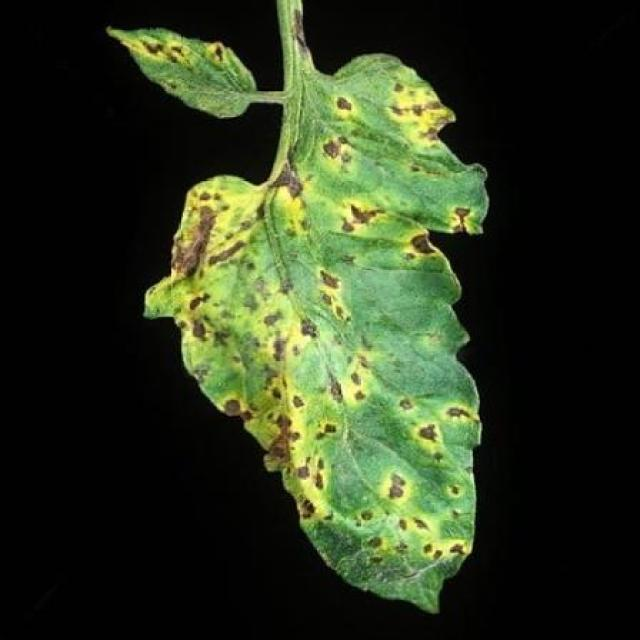Septoria: (138, 52, 489, 615), (106, 20, 260, 120)
